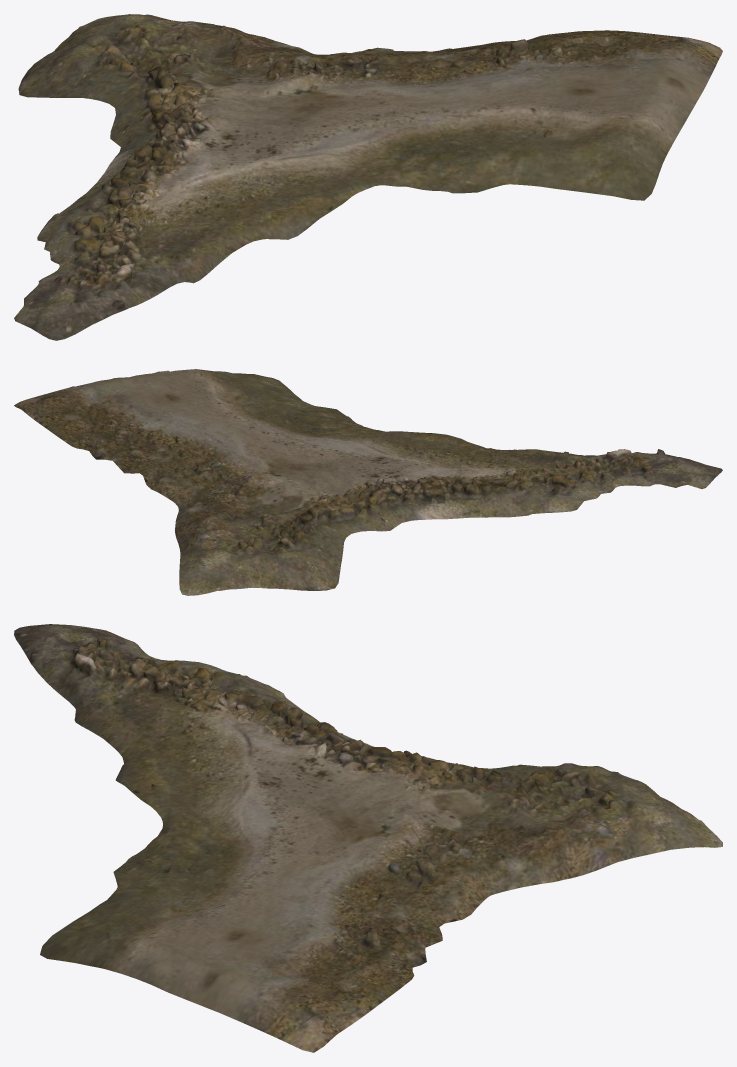
File: coast_rocks_01.glb
3 renders of one model, top to bottom at view 1: azimuth 30°, elevation 25°; view 2: azimuth 150°, elevation 25°; view 3: azimuth 270°, elevation 25°, orthographic. The views are drawn at different scales.
Visible parts, largest first — view 1: coast_rocks_01_lo; view 2: coast_rocks_01_lo; view 3: coast_rocks_01_lo.
Part boxes in pixels (x1,y1,x2,y2): coast_rocks_01_lo: (14, 14, 722, 340); coast_rocks_01_lo: (14, 369, 722, 595); coast_rocks_01_lo: (14, 624, 722, 1052).
Bounding box in the file's own units: 59.5 × 3.28 × 42.52.
1 material, 1 textured.
